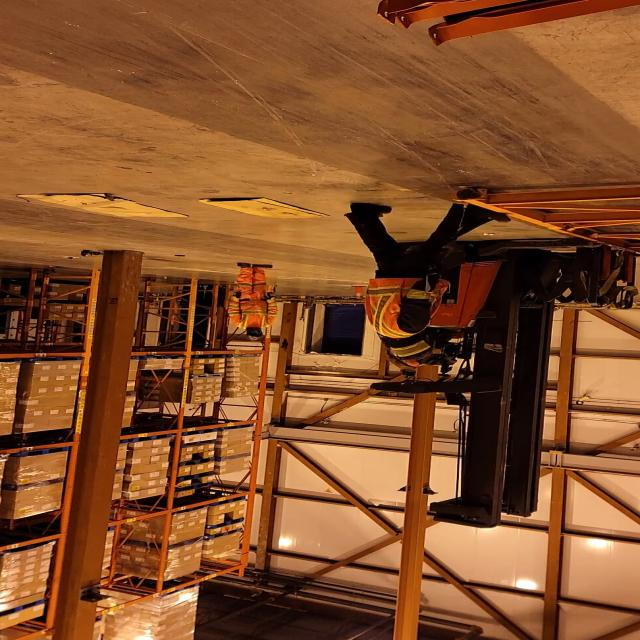forklift: (383, 237, 640, 521)
human: (342, 200, 514, 364), (216, 260, 287, 342)
objectofinterest: (452, 174, 640, 270), (17, 192, 188, 220), (191, 194, 333, 222)
